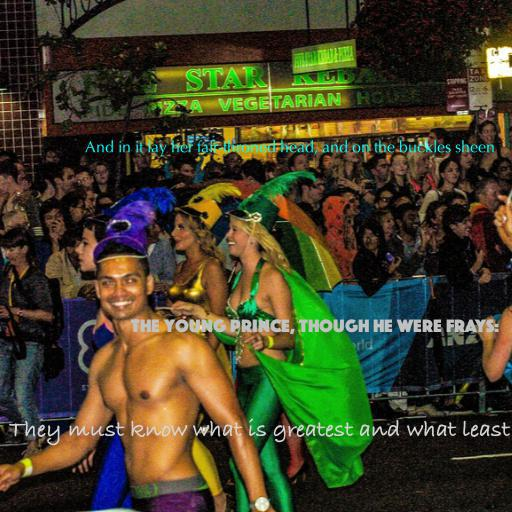Bradley Hand: (8, 418, 510, 446)
Optima: (85, 140, 495, 157)
Phosphate: (131, 319, 499, 334)
